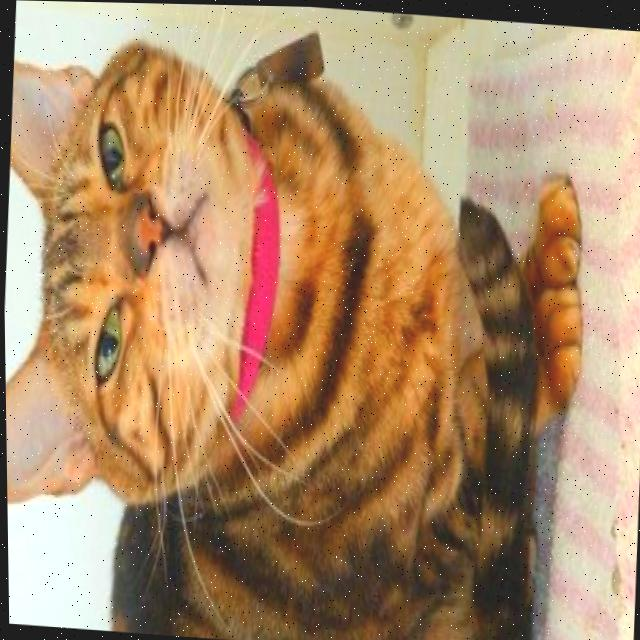Bengal: (0, 0, 615, 640)
